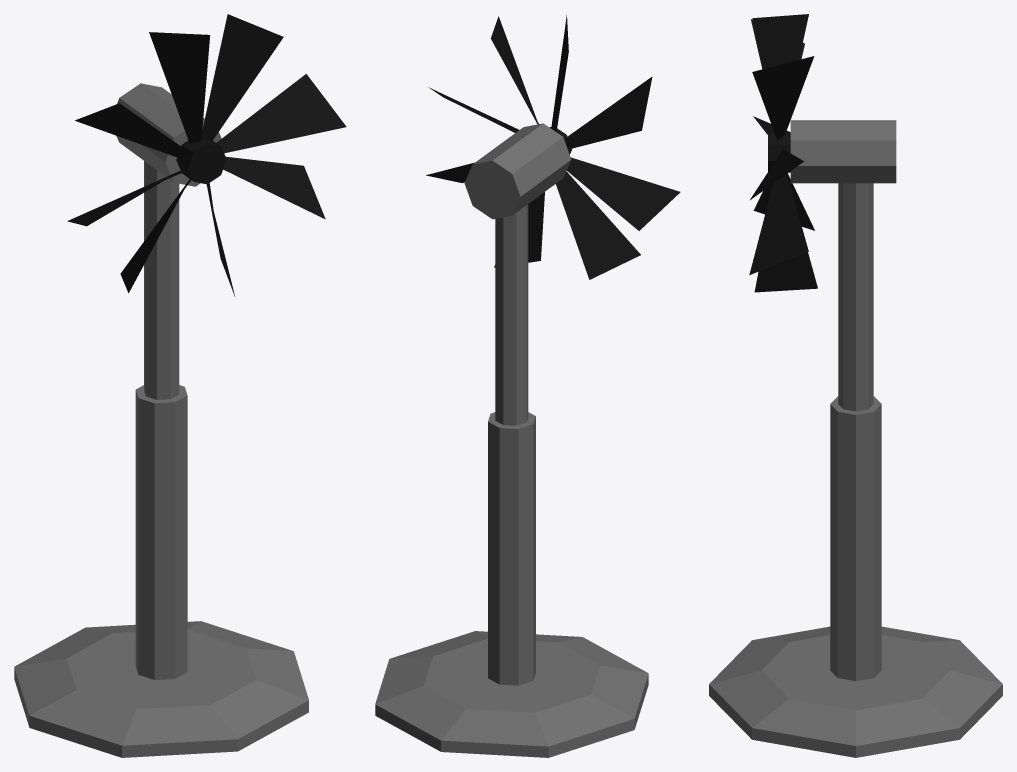
The model's file is venti.glb.
3 renders of one model, left to right at view 1: azimuth 30°, elevation 25°; view 2: azimuth 150°, elevation 25°; view 3: azimuth 270°, elevation 25°, orthographic. The views are drawn at different scales.
Visible parts, largest first — view 1: Cylinder, Cylinder.001; view 2: Cylinder, Cylinder.001; view 3: Cylinder, Cylinder.001.
Boxes of the visible parts, <box> form: Cylinder: <box>14,83,308,757</box>; Cylinder.001: <box>67,14,346,296</box>; Cylinder: <box>375,123,648,757</box>; Cylinder.001: <box>426,15,680,279</box>; Cylinder: <box>709,120,1002,757</box>; Cylinder.001: <box>749,14,817,292</box>.
Size of the model in its own units: 1 by 2.54 by 1.
Materials: 2 (2 with a texture image).
